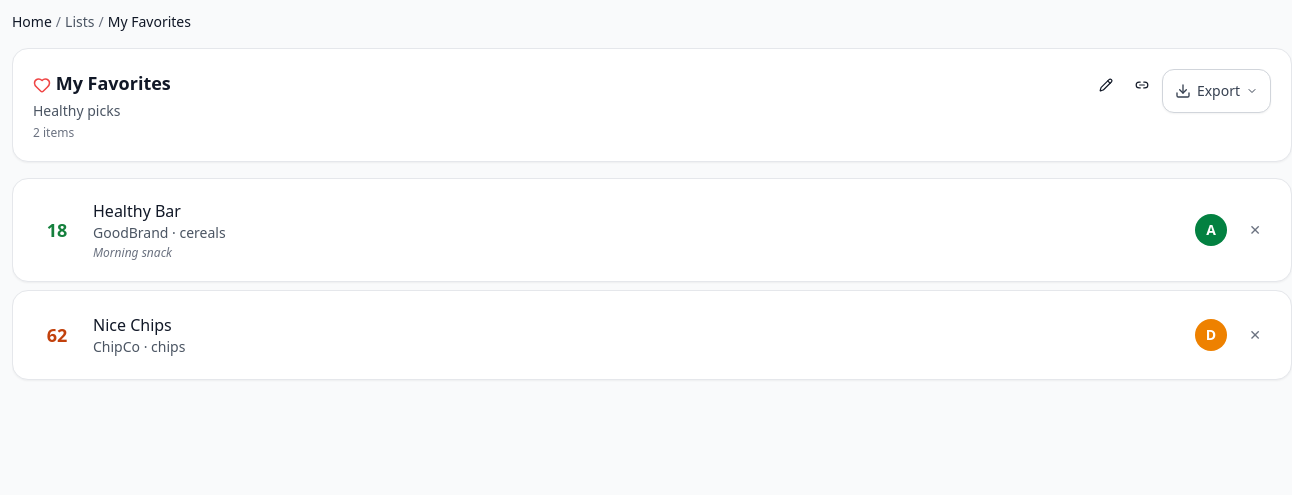
it: ListDetailPage › opens share panel
Click the button titled "Share settings": (1142,85) [1126,69,1158,101]
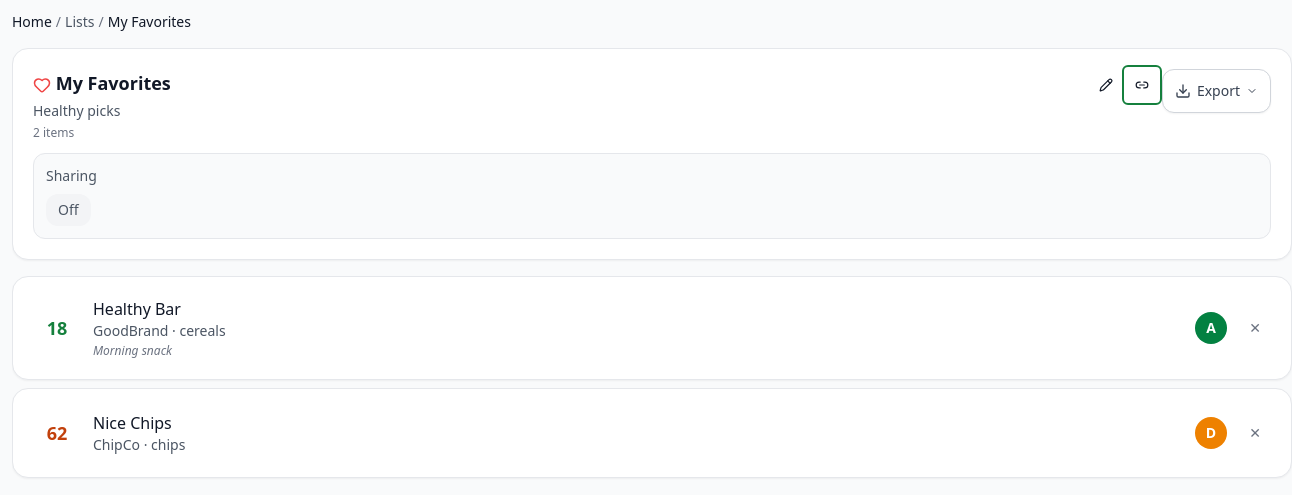
Expected: the text "Sharing" is shown, [46,166,97,185]
Expected: the button "Off" is shown, [46,194,91,226]
